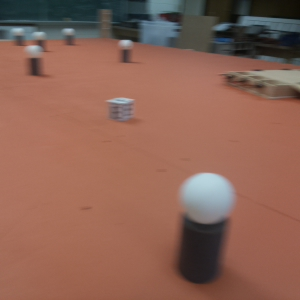obstacle: (177, 172, 239, 285), (25, 45, 47, 80), (118, 40, 135, 63), (62, 29, 77, 47), (11, 29, 25, 44), (34, 32, 46, 43)
side: (222, 71, 292, 102)
slope: (293, 80, 299, 98)
